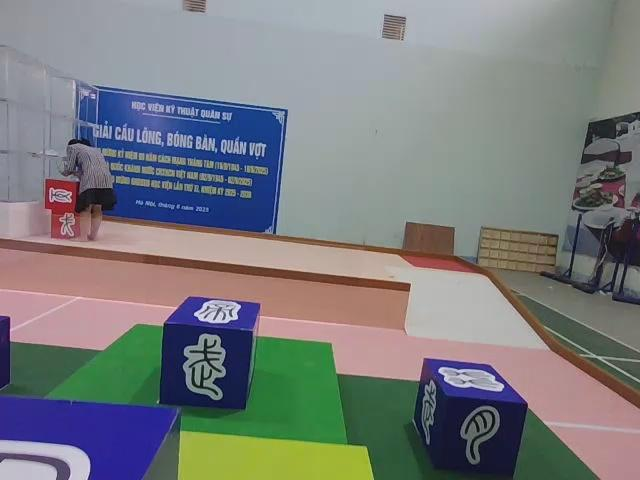R2 Fake Blue: (415, 361, 529, 480), (159, 296, 263, 415)
